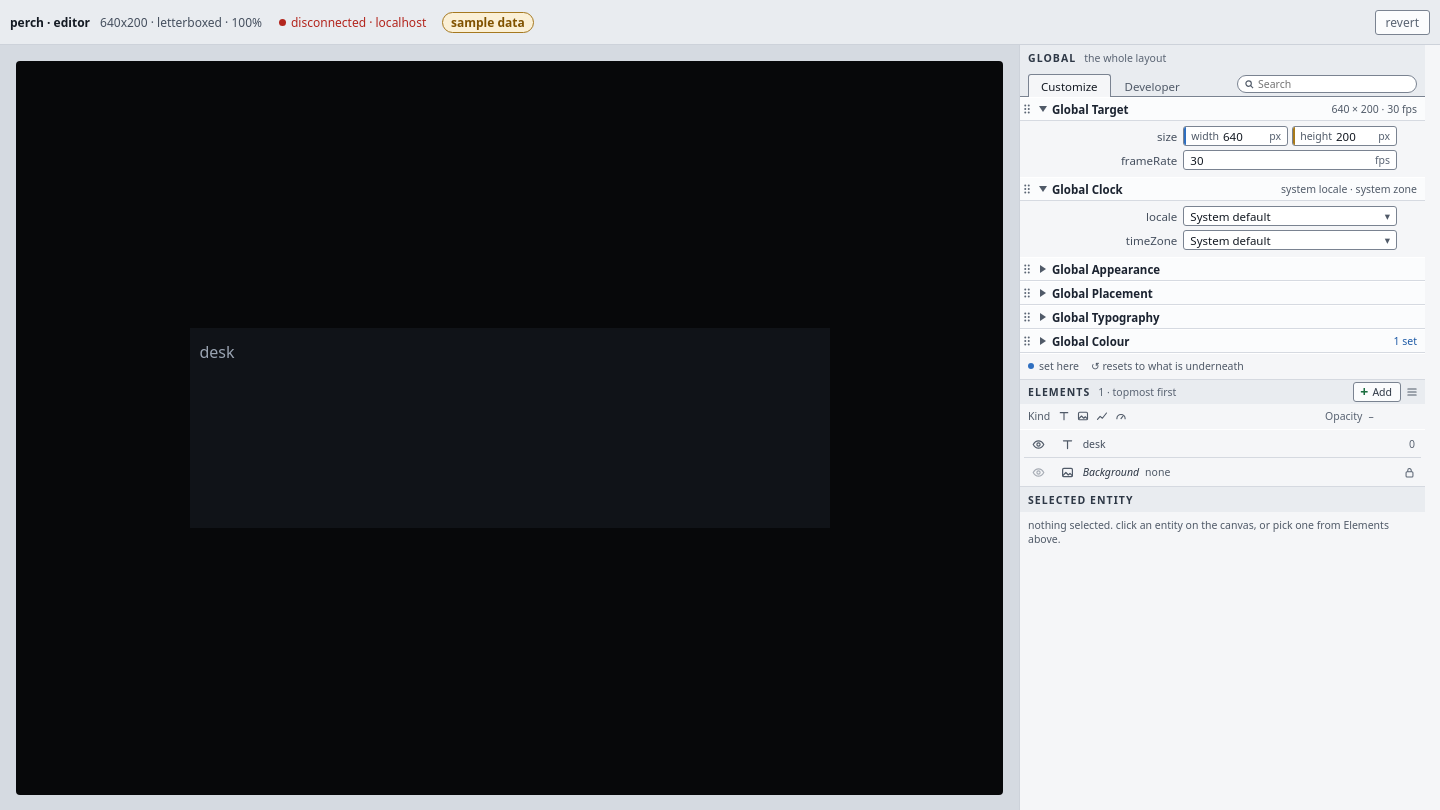
Save As › writes nothing when the dialog is cancelled, and the edits stay unsaved
Click the button "desk 0". click: (1067, 444)
box: [1052,430,1421,458]
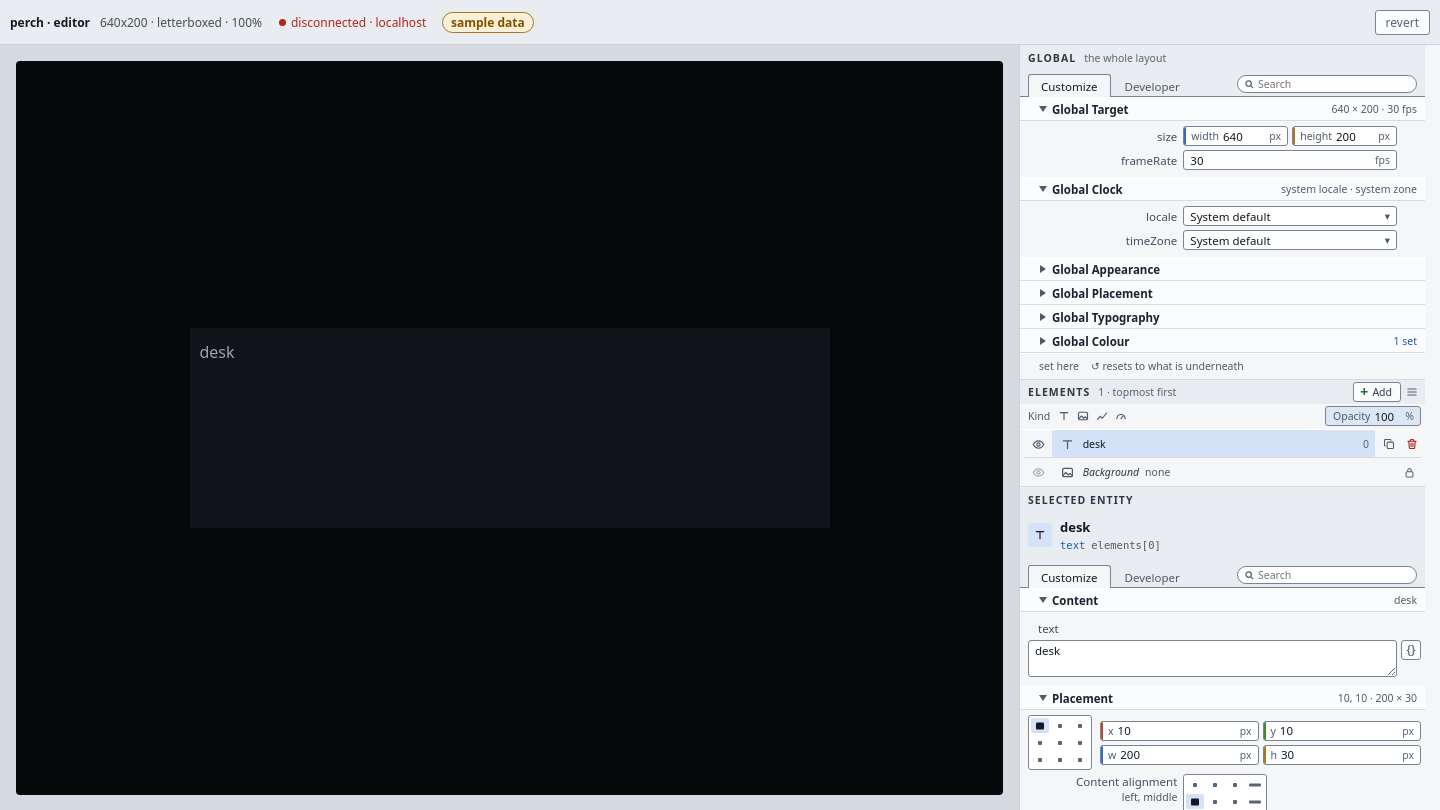
Replace the text in the number field labelled "w" with "150". click: (1179, 755)
box: [1118,746,1240,764]
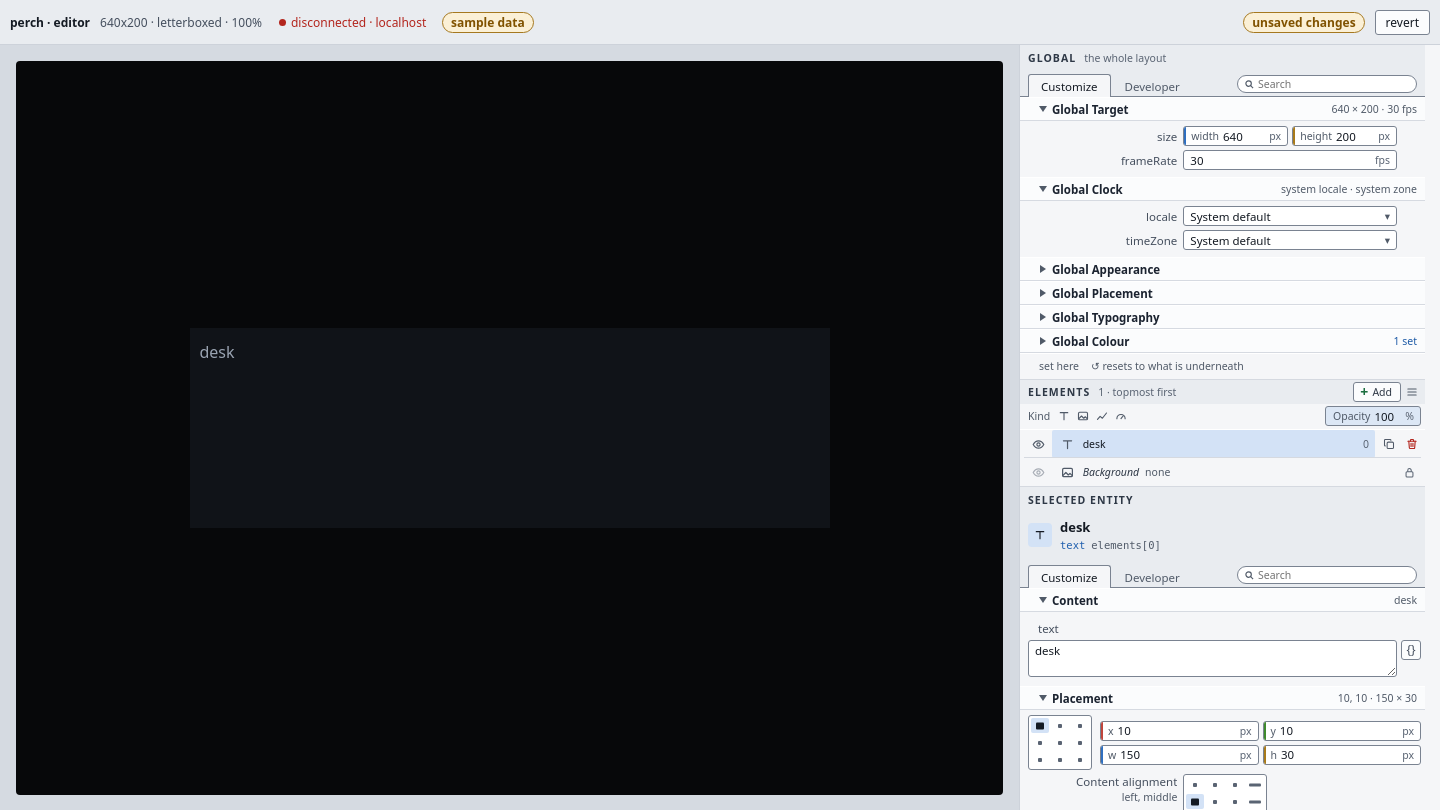
Expected: the text "unsaved changes" is shown, [1243,12,1365,32]
